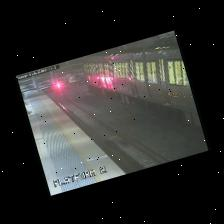person: (22, 93, 28, 105)
